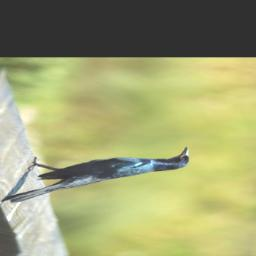Crow: (0, 138, 195, 213)
